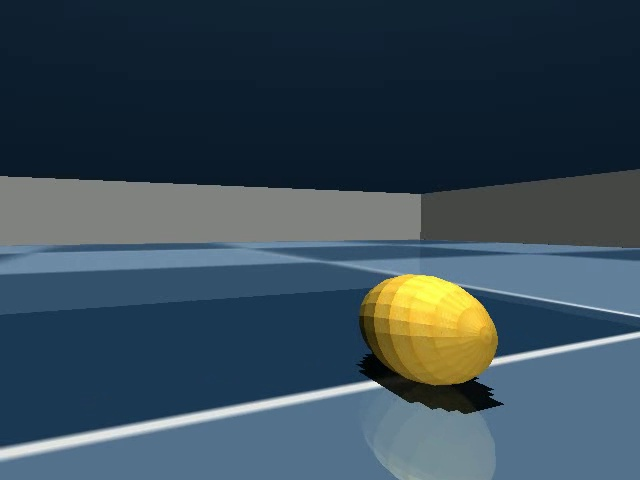lemon: (352, 266, 507, 400)
